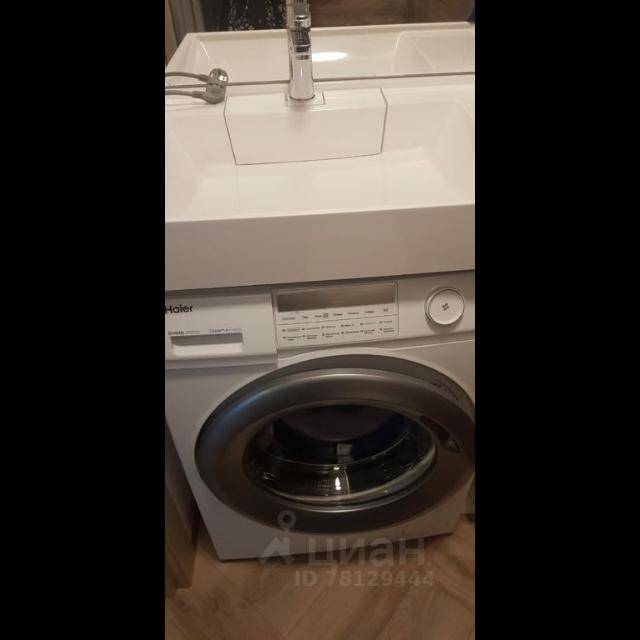Washing-Machine: (165, 283, 475, 561)
